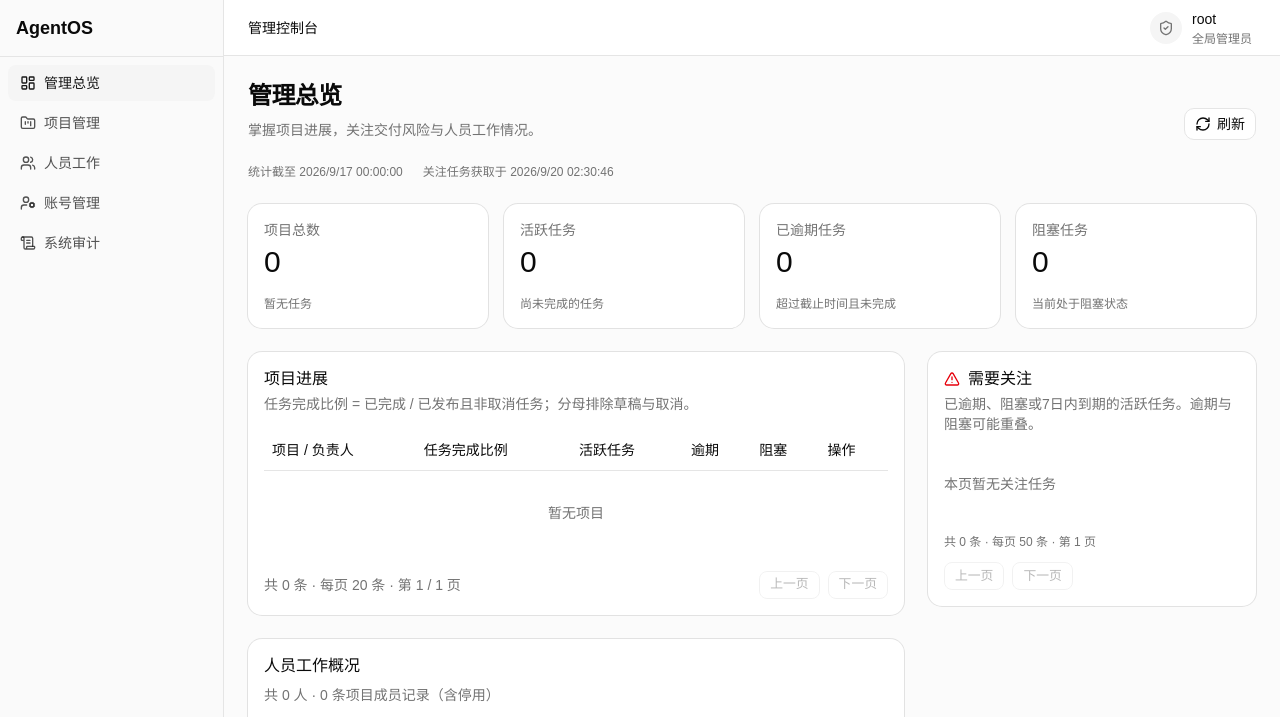
it: AdminConsolePage 管理控制台 › 当前登录管理员所在行不提供禁用按钮（避免锁死管理入口）
The image size is (1280, 717).
Click the button "账号管理" at (112, 203), box 8,185 -> 215,221
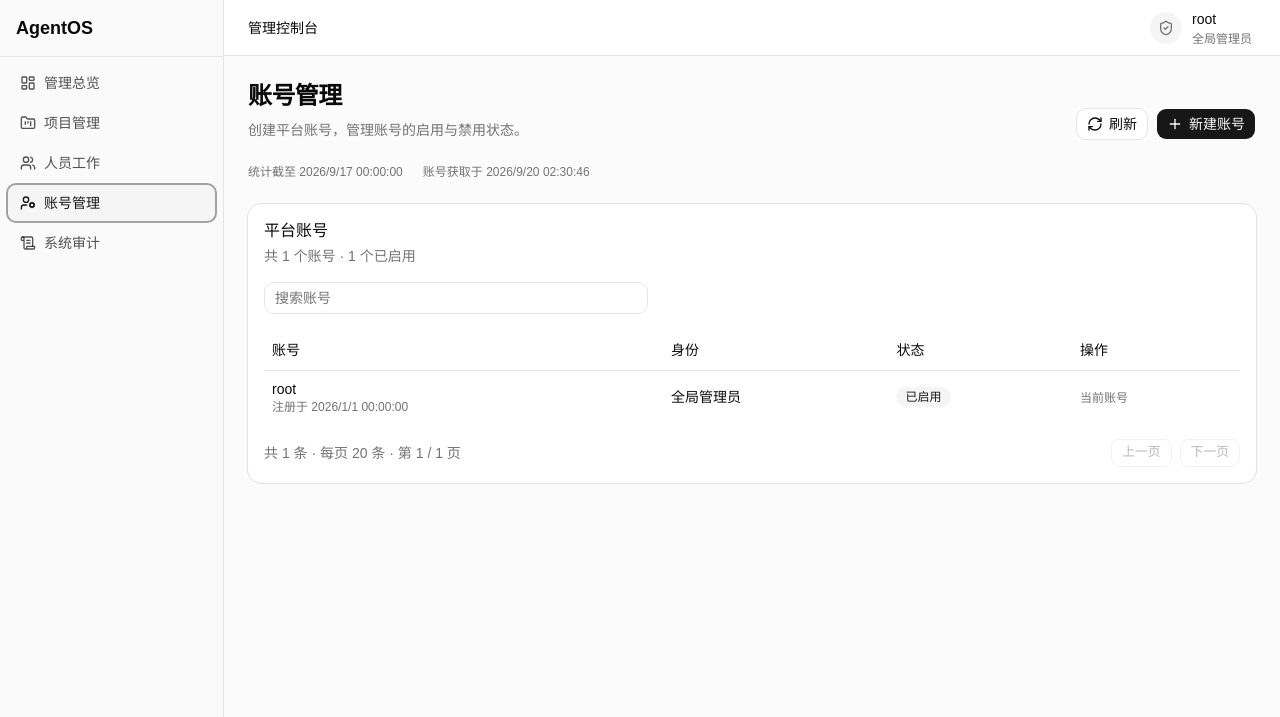
Now the text "root" is shown, box 272,380 -> 296,396
